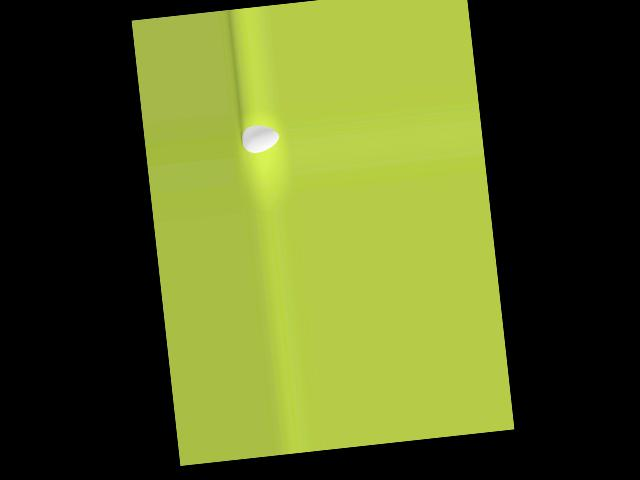egg: (240, 122, 280, 154)
